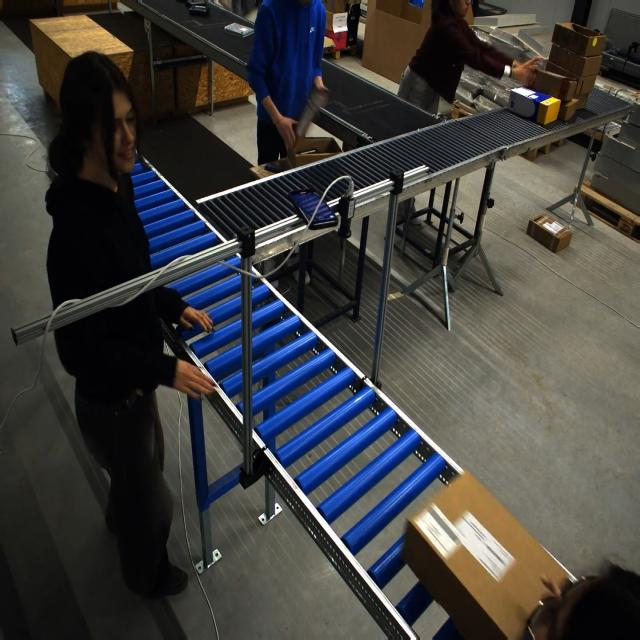box: (403, 471, 582, 640), (505, 86, 559, 125), (287, 133, 340, 169)
product: (224, 22, 254, 38), (187, 3, 210, 17)
